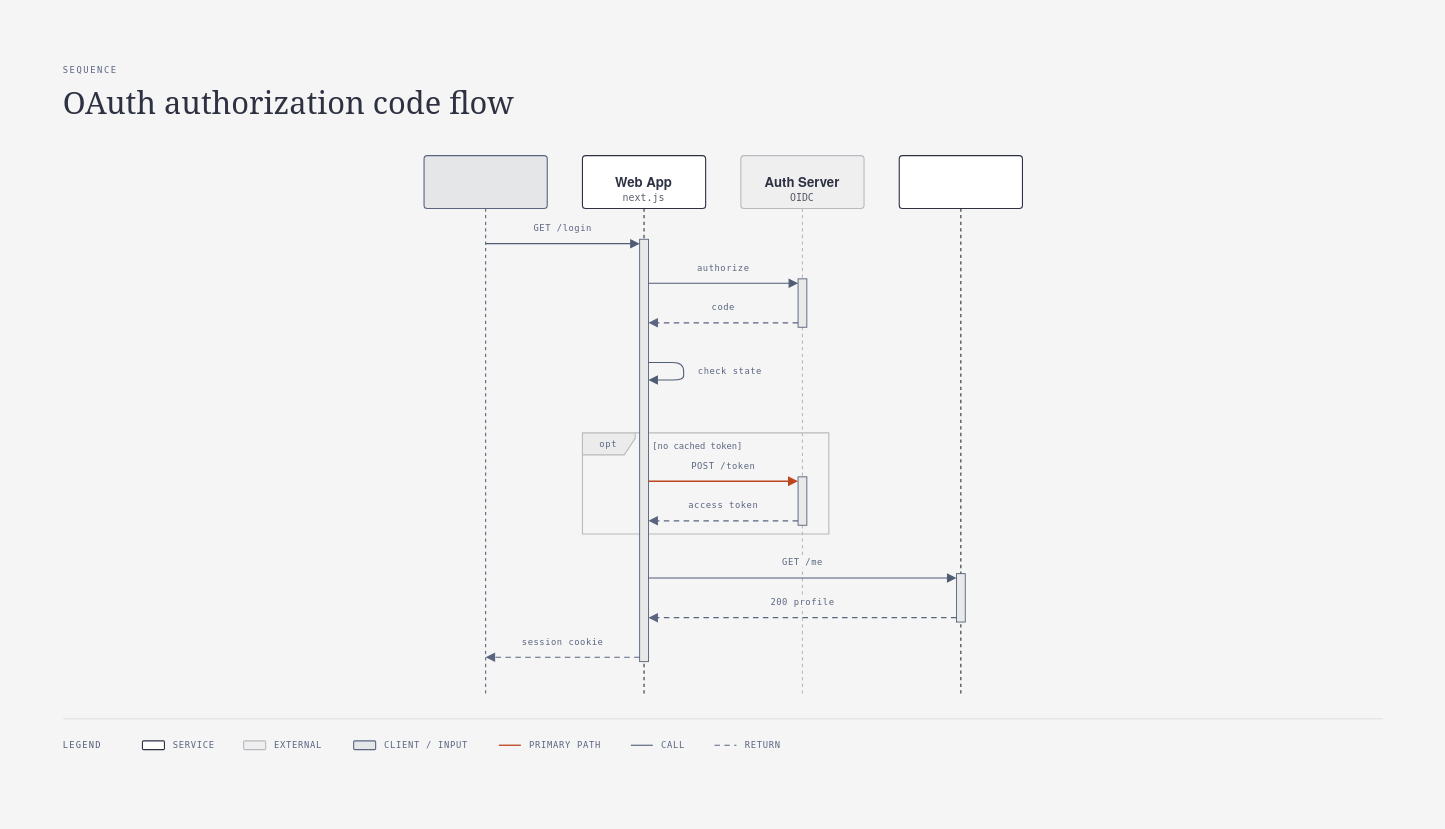
This 1445x829 diagram has some shape labels left out. The box of each missing label's shape, as (x1, y1, x2, y2) in pixels:
API orders: (898, 155, 1022, 697)
Browser: (423, 155, 547, 697)
